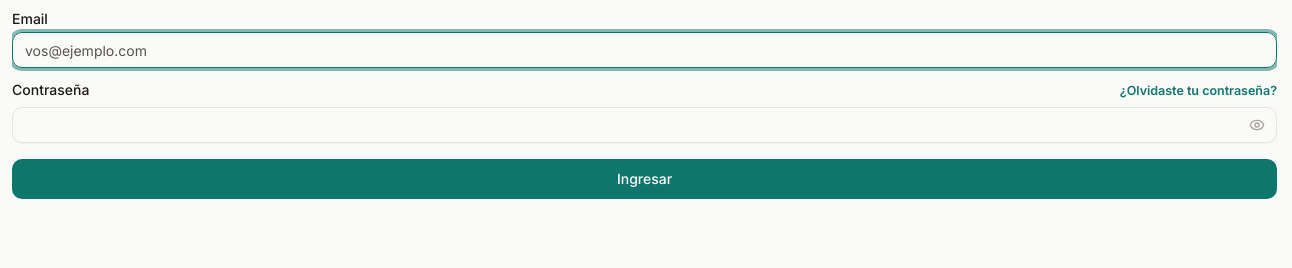
LoginForm › blocks empty submissions with field-level validation
Click the button "Ingresar" at (644, 179), box [12, 159, 1277, 199]
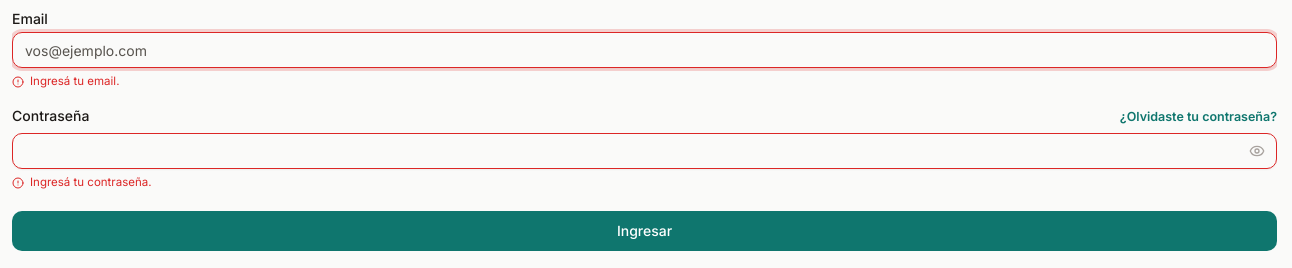
expect the text "Ingresá tu email." is shown: met, box [12, 74, 120, 90]
expect the text "Ingresá tu contraseña." is shown: met, box [12, 175, 152, 190]
